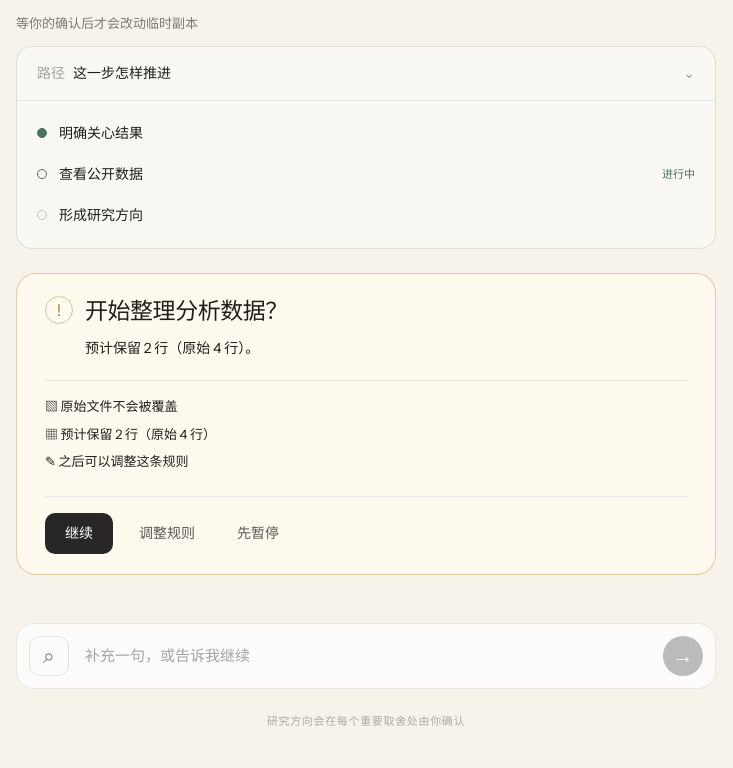
Test case: AgentSpikePage visible conversation seam › persists pause, keeps the approval interrupt, and resumes into the same panel
(page scrolled)
Expected: the element with test id "spike-approval-panel" is shown, [16,273,716,575]
Click the button with test id "spike-pause" at (258, 533), box [221,513,295,554]
(page scrolled)
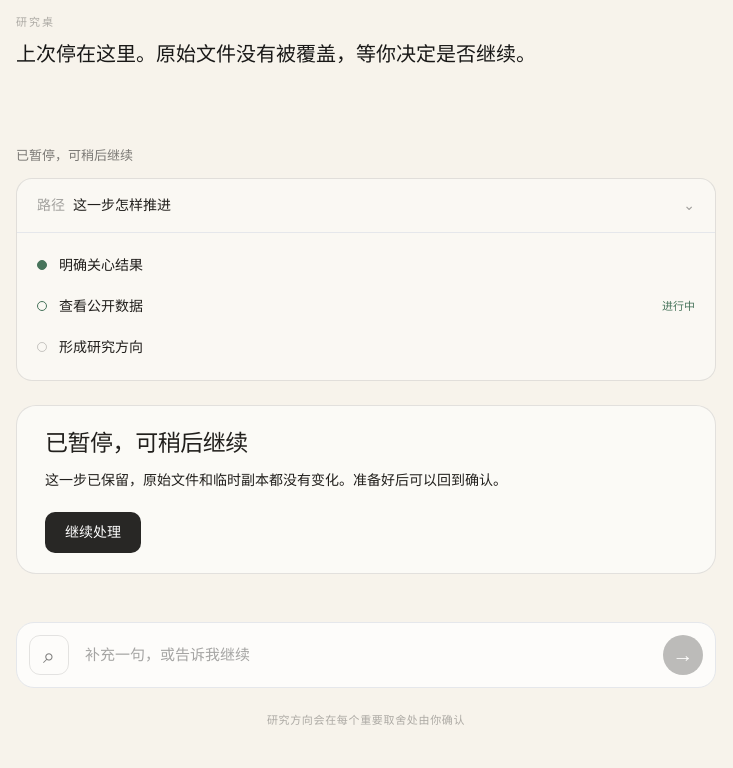
Expected: the element with test id "spike-paused" shows "已暂停，可稍后继续", [45,428,248,458]
Expected: the button with test id "spike-resume" is shown
Click the button with test id "spike-resume" at (93, 533), box [45,512,141,553]
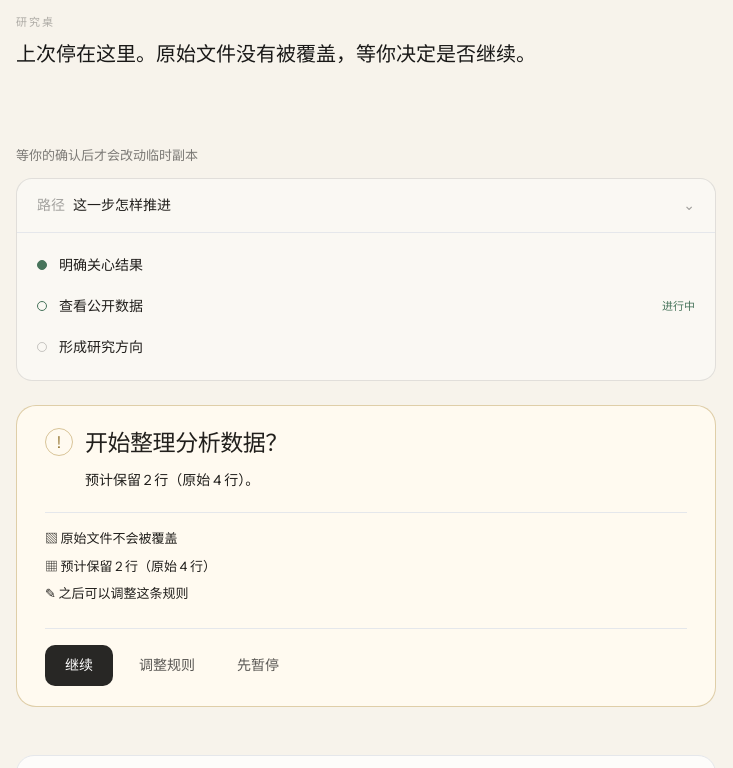
Expected: the element with test id "spike-approval-panel" is shown, [16,405,716,707]
